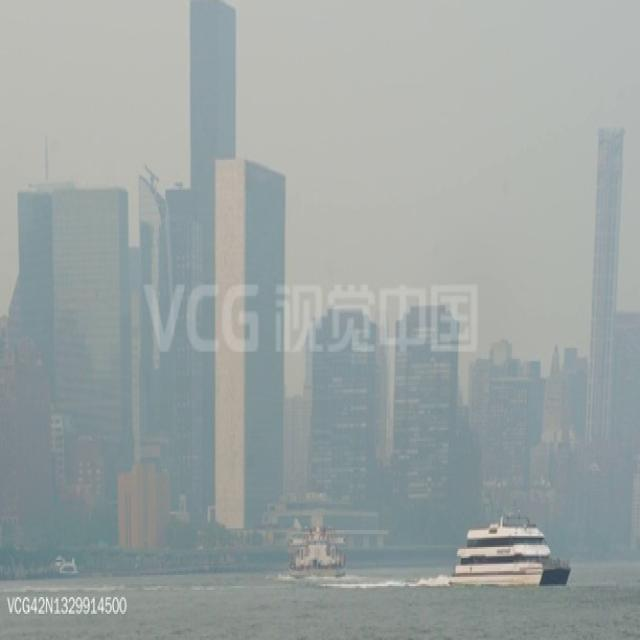houseboat: (50, 551, 80, 579)
passenger ship: (448, 515, 571, 592), (290, 523, 346, 579)
